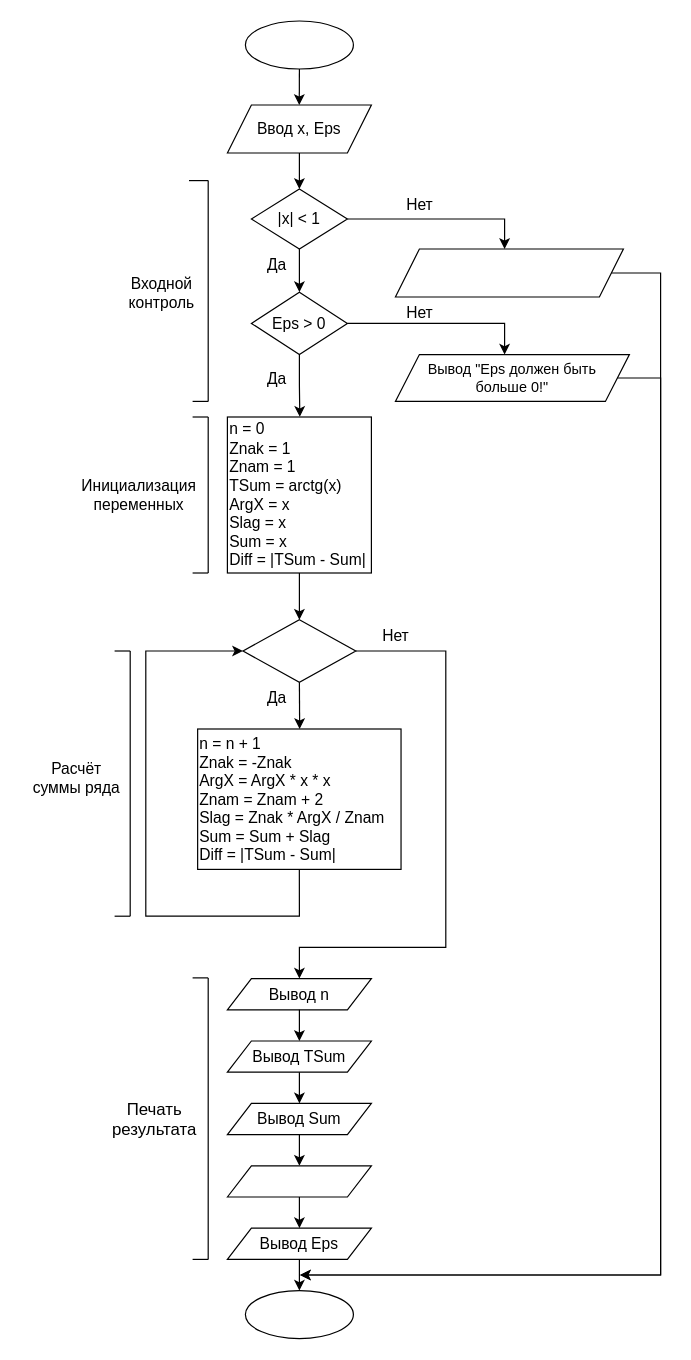
The diagram is 691 pixels wide and 1360 high, and some of its shapes have lost their labels. The centre of each missing label's shape, as x and y in pixels:
Diff > Eps: the point at 299,650
Вывод "|x| должен быть меньше 1!": the point at 508,272
Вывод Diff: the point at 298,1181
Конец: the point at 298,1314
Начало: the point at 298,44
